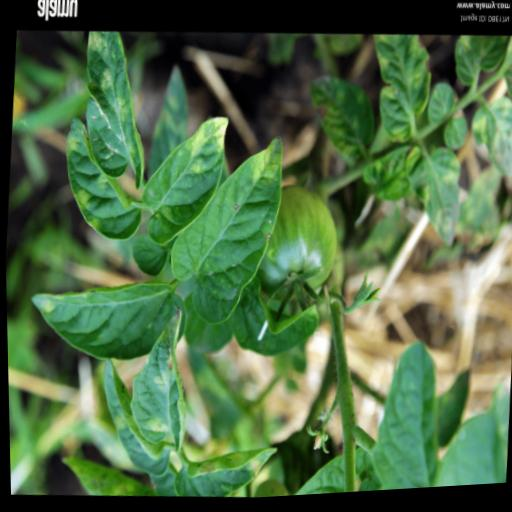Mosaic Virus: (161, 130, 289, 336), (23, 273, 188, 371), (134, 111, 231, 255), (74, 28, 154, 196), (57, 112, 149, 247), (92, 352, 175, 485), (123, 305, 193, 458), (363, 35, 435, 152), (394, 147, 465, 260), (302, 75, 379, 172), (170, 440, 277, 504), (463, 98, 512, 205)
